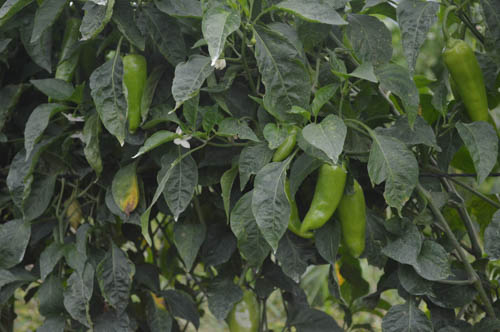ChiliPepper: (443, 43, 486, 125), (298, 166, 345, 236), (118, 53, 153, 136), (339, 182, 371, 260), (229, 291, 263, 332)
